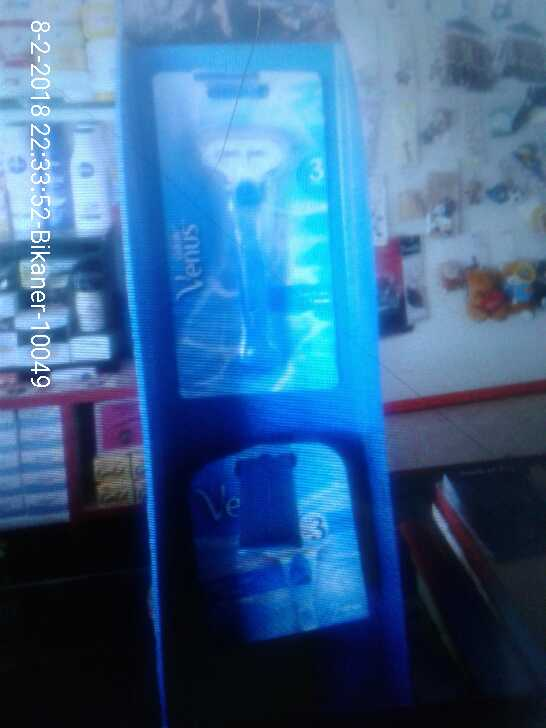venus: (161, 77, 335, 399), (183, 441, 369, 653)
